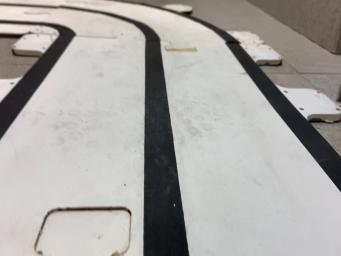street: (0, 1, 341, 256), (0, 1, 341, 256), (0, 1, 341, 256), (0, 1, 341, 256), (0, 1, 341, 256), (0, 1, 341, 256)
